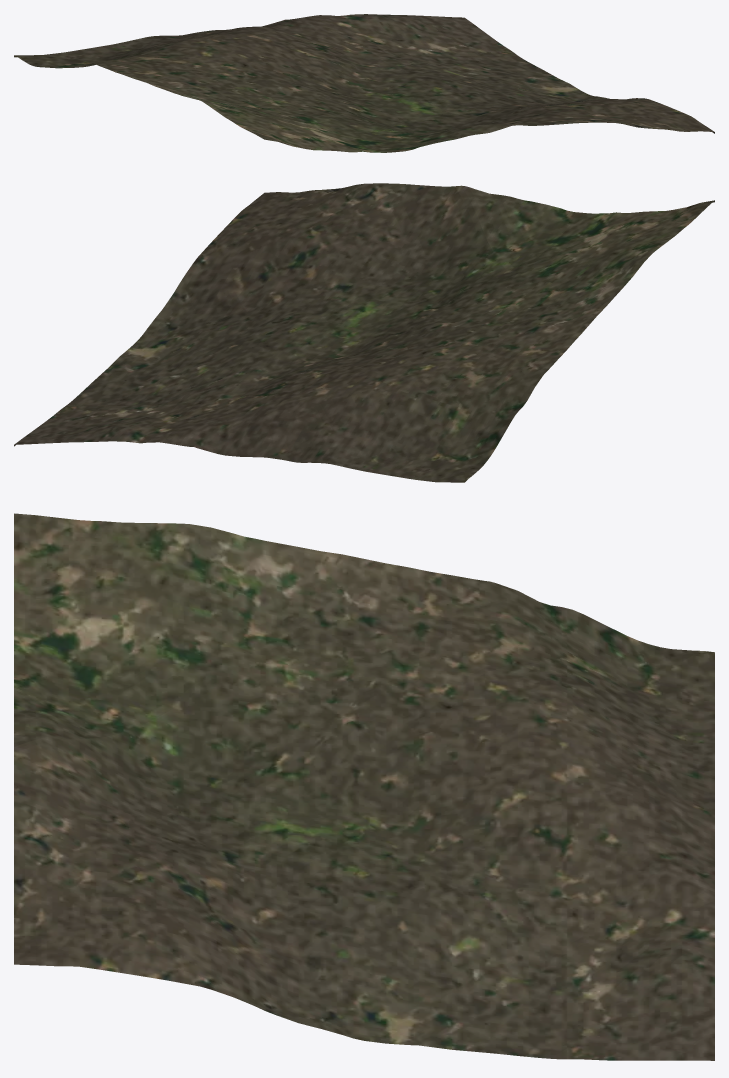
3 renders of one model, top to bottom at view 1: azimuth 30°, elevation 25°; view 2: azimuth 150°, elevation 25°; view 3: azimuth 270°, elevation 25°, orthographic. The views are drawn at different scales.
Bounding box in the file's own units: 250 × 91.75 × 241.
1 material, 1 textured.
